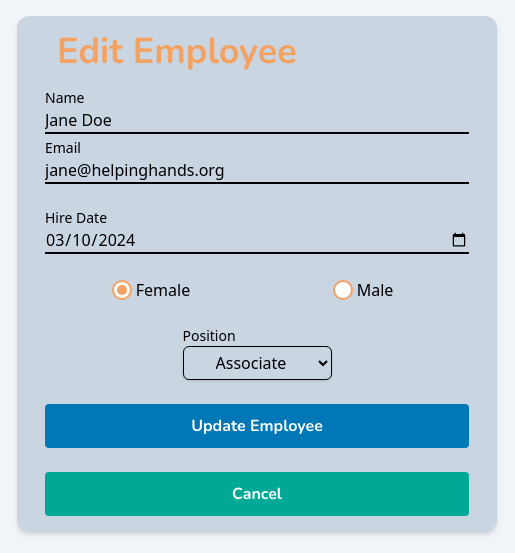
it: EditEmployeePage › shows schema validation errors and does not submit invalid data
The width and height of the screenshot is (515, 553).
Clear the field labelled "Name" at x=257, y=121, box [45,108,469,134]
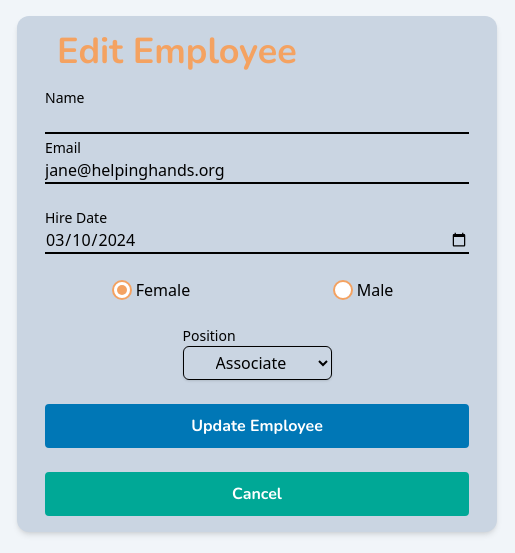
Clear the field labelled "Email" at x=257, y=171, box [45,158,469,184]
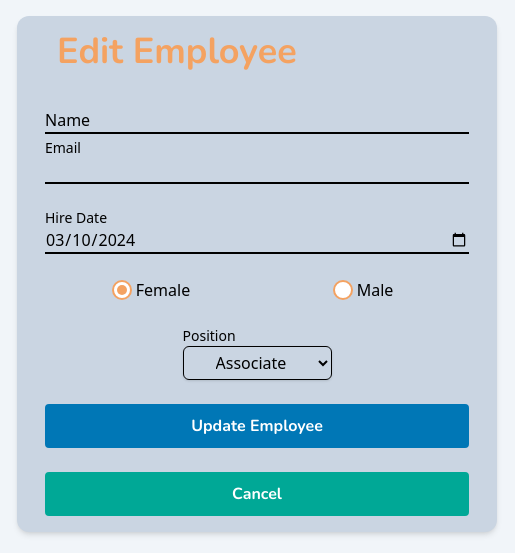
Clear the date field labelled "Hire Date" at x=257, y=241, box [45,228,469,254]
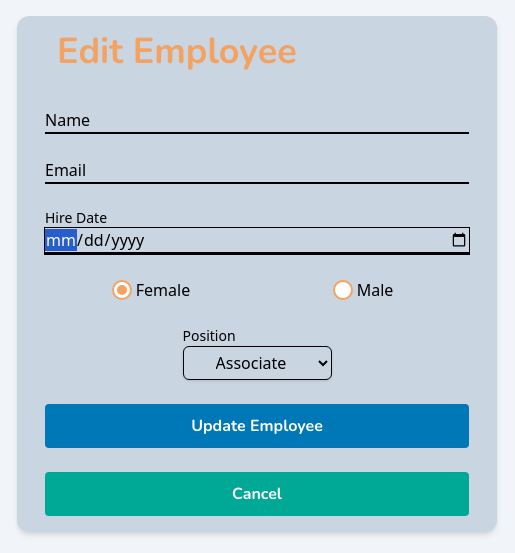
Click the button "Update Employee".
click(257, 426)  # box [45,404,469,448]
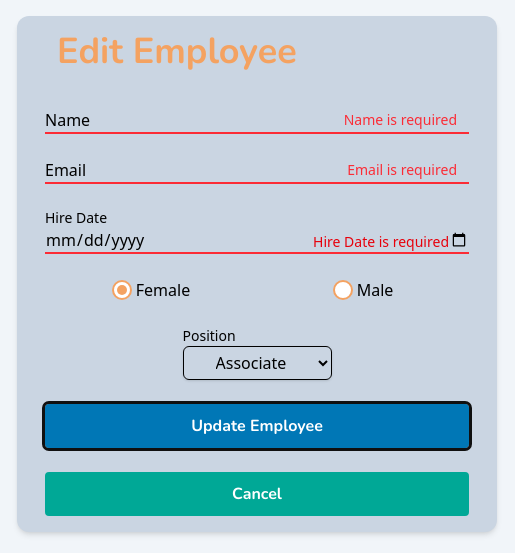
Expected: the text "Name is required" is shown, [344,110,457,130]
Expected: the text "Email is required" is shown, [347,160,457,180]
Expected: the text "Hire Date is required" is shown, [313,232,449,252]
